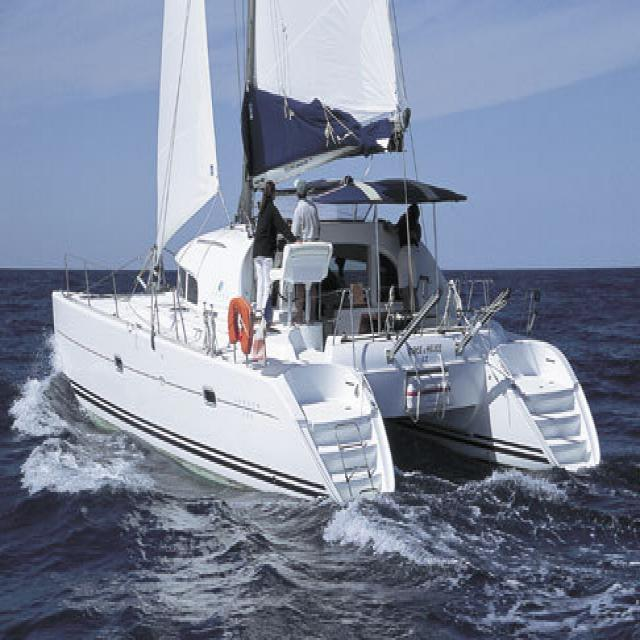Ship: (41, 11, 597, 502)
